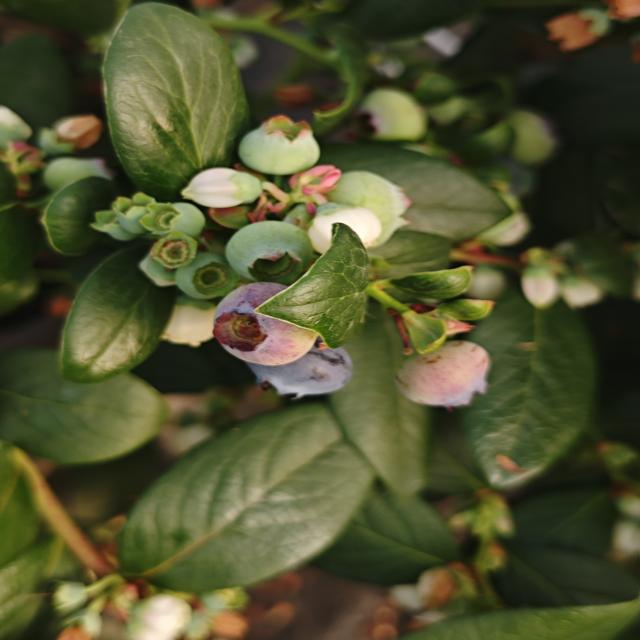ripe: (245, 339, 351, 402)
